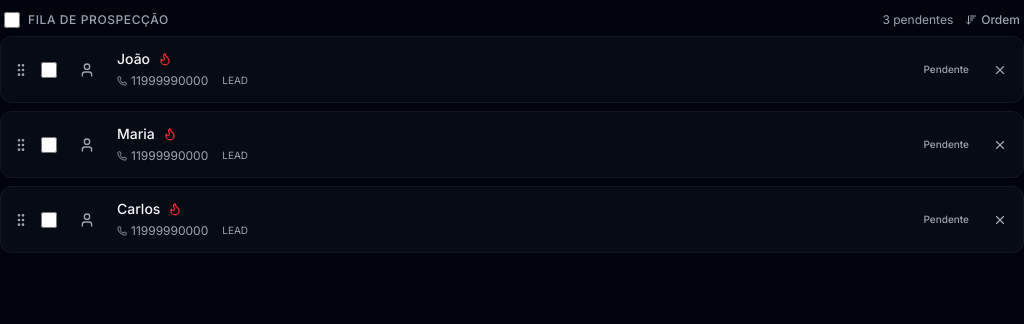
Test: CallQueue — batch selection (CP-4.5) › BatchActionsBar aparece ao selecionar pelo menos 1 item
Check: the text "selecionado" is not shown
Note: Select one item
Click the checkbox named "Selecionar João": point(49, 70) top-left (41, 62), bottom-right (57, 78)
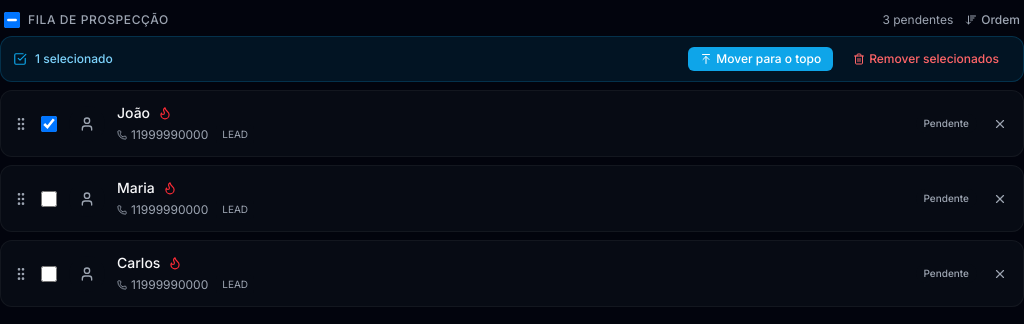
Check: the text "1 selecionado" is shown, box top-left (35, 51), bottom-right (113, 66)
Check: the button "Mover para o topo" is shown, box top-left (688, 47), bottom-right (833, 71)
Check: the button "Remover selecionados" is shown, box top-left (841, 47), bottom-right (1011, 71)
